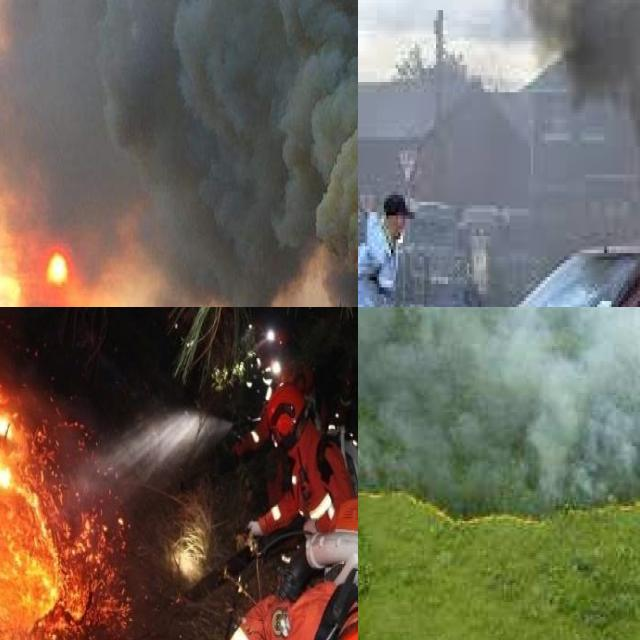fire: (0, 356, 112, 640)
smoke: (0, 0, 358, 307), (358, 307, 640, 499), (497, 0, 640, 167)
